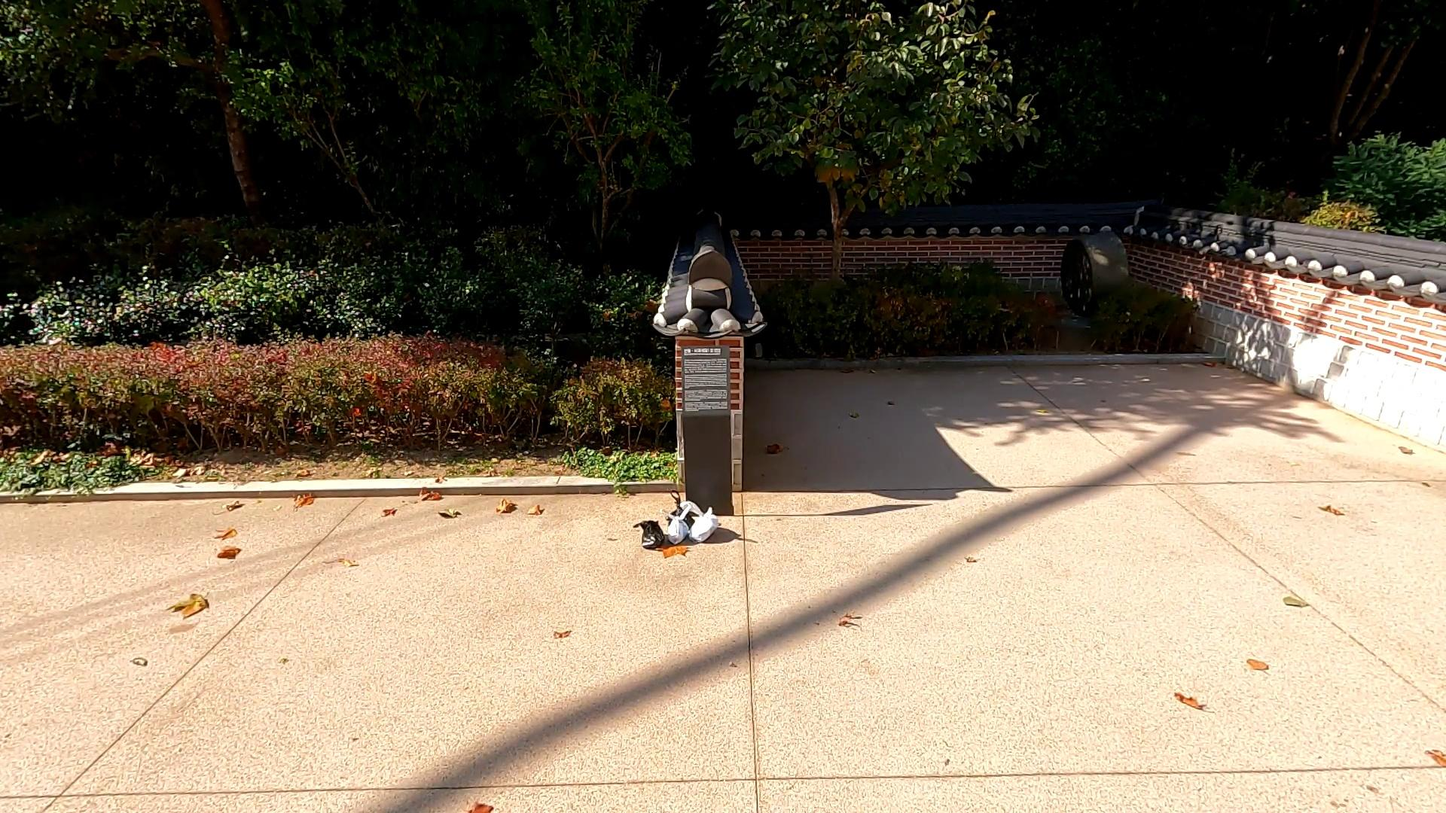trash: (683, 502, 723, 546), (664, 490, 697, 530), (660, 506, 691, 545), (634, 518, 666, 552)
